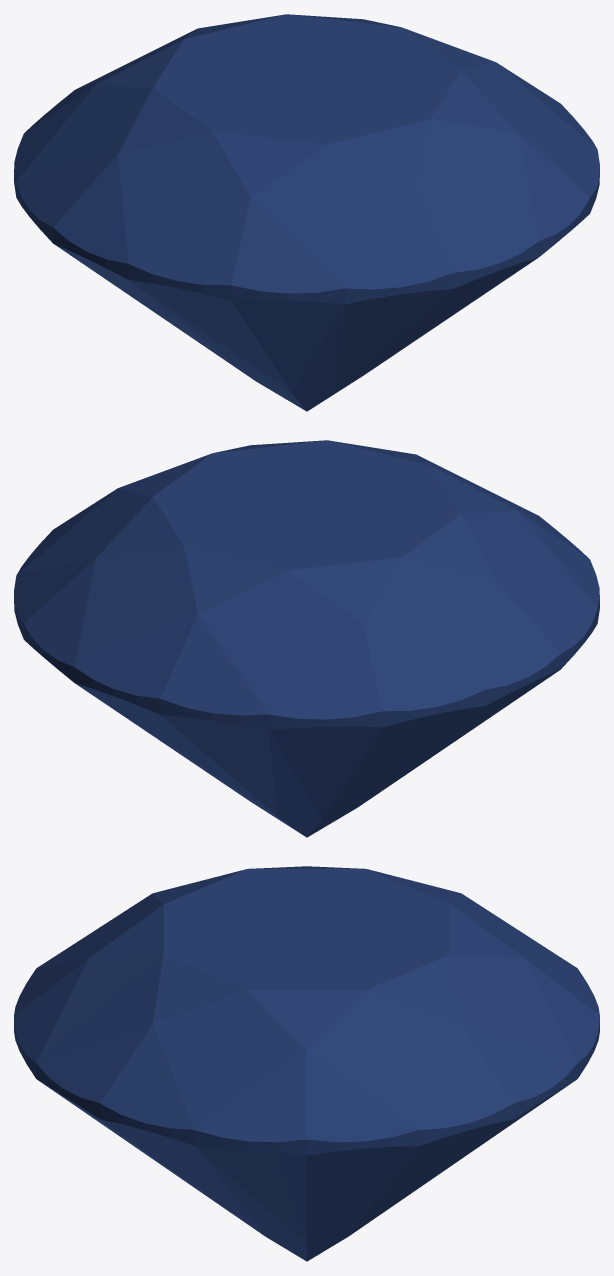
The model's file is RoundTanzanite.glb.
3 renders of one model, top to bottom at view 1: azimuth 30°, elevation 25°; view 2: azimuth 150°, elevation 25°; view 3: azimuth 270°, elevation 25°, orthographic.
Visible parts, largest first — view 1: new twist dia for 3d model; view 2: new twist dia for 3d model; view 3: new twist dia for 3d model.
Part boxes in pixels (left/top/right/bottom): new twist dia for 3d model: left=14, top=14, right=599, bottom=411; new twist dia for 3d model: left=14, top=440, right=599, bottom=837; new twist dia for 3d model: left=14, top=866, right=599, bottom=1261.
Bounding box in the file's own units: 7.45 × 4.66 × 7.45.
